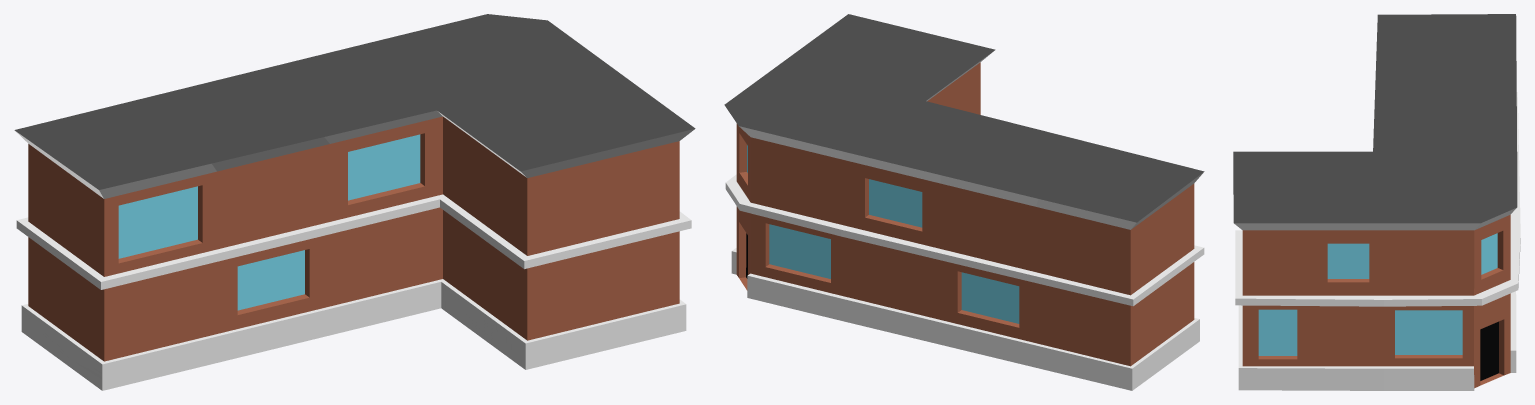
Rendered from Building_Corner.fbx.
3 renders of one model, left to right at view 1: azimuth 30°, elevation 25°; view 2: azimuth 150°, elevation 25°; view 3: azimuth 270°, elevation 25°, orthographic. The views are drawn at different scales.
Parts seen in each view (by area): view 1: Building_08; view 2: Building_08; view 3: Building_08.
Part boxes in pixels (x1,y1,x2,y2): Building_08: [14, 14, 695, 390]; Building_08: [724, 14, 1204, 390]; Building_08: [1233, 14, 1520, 390].
Bounding box in the file's own units: 4343 × 1642 × 2521.
